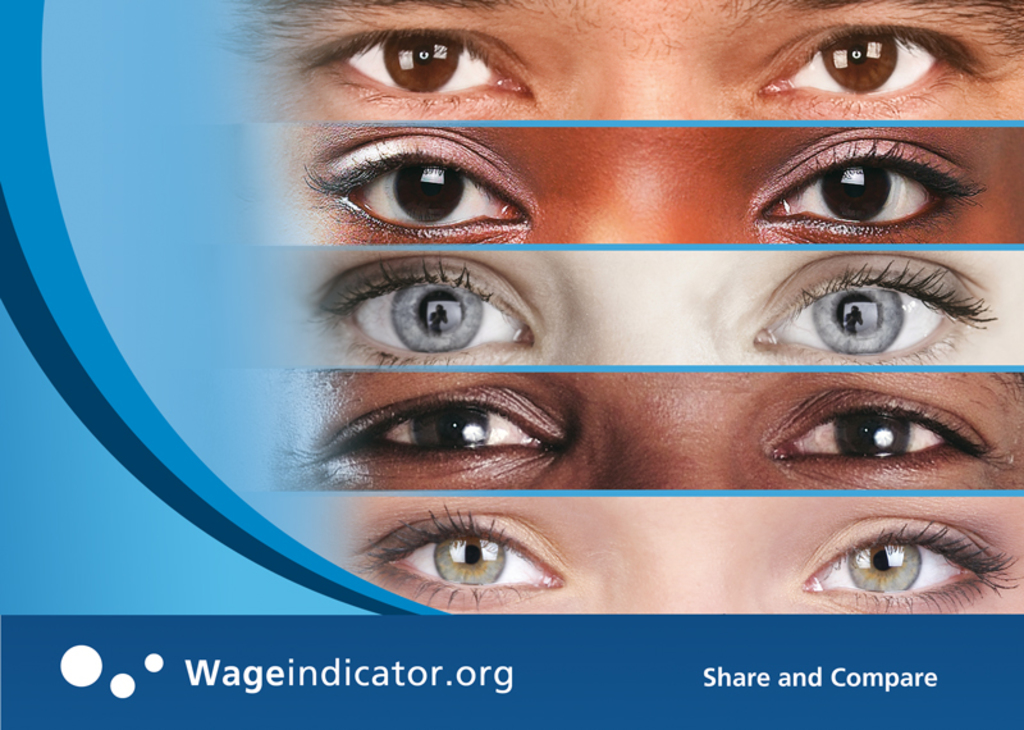Person: (219, 0, 1024, 118), (290, 245, 1024, 368), (267, 370, 1024, 488), (284, 126, 1024, 243), (333, 494, 1024, 615)
